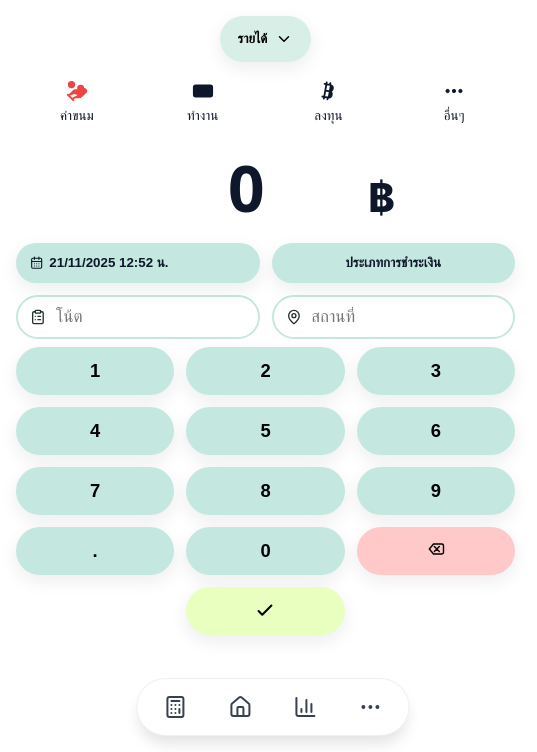
Test: Income Component › should delete last digit when clicking backspace on keypad
The image size is (537, 752).
Note: Type some numbers first
Replace the text in the field named "จำนวนเงิน" with "123" at (246, 188), box [136,144,356,231]
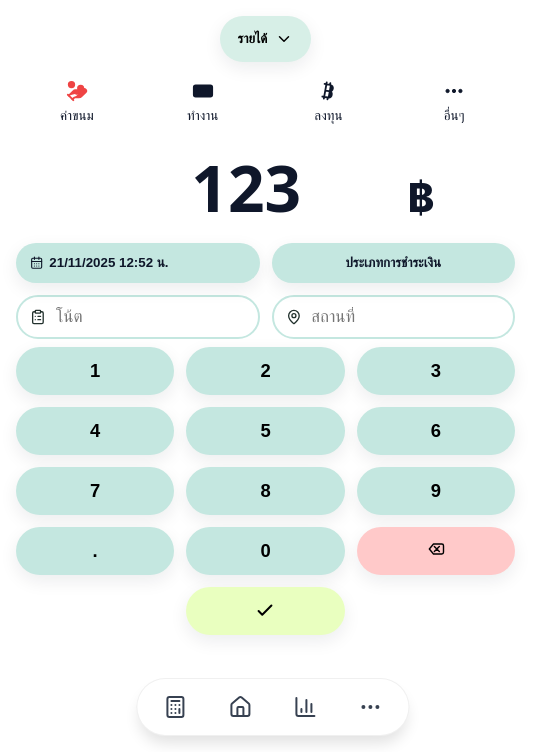
Note: Click backspace button
Click the button with class "danger" at (436, 551), box [357,527,515,575]
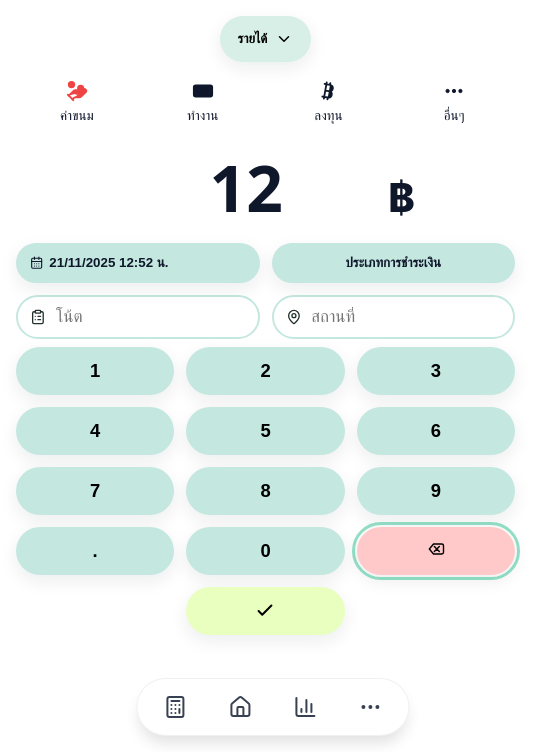
Check: the field named "จำนวนเงิน" holds "12", box [116,144,376,231]
